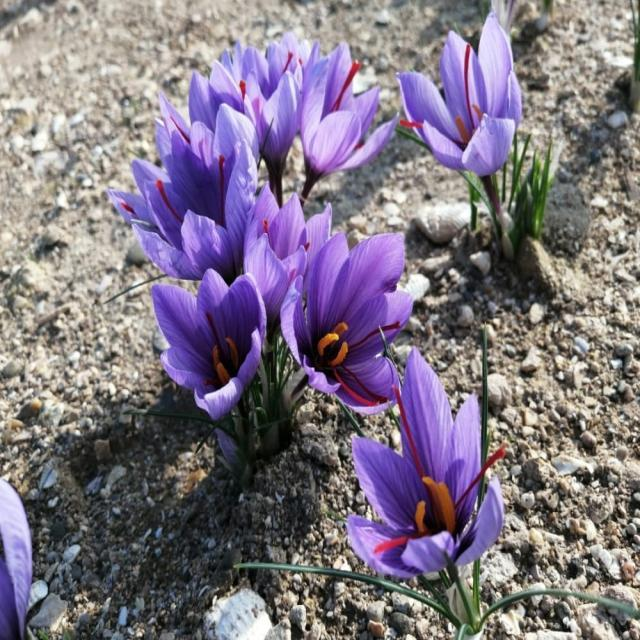Flower: (360, 347, 516, 575), (288, 225, 419, 405), (398, 13, 522, 177), (300, 43, 397, 201)
stigma: (386, 381, 426, 475), (456, 442, 510, 504), (195, 329, 241, 389), (328, 52, 370, 116), (453, 41, 478, 130), (153, 172, 184, 227), (354, 323, 404, 352)
